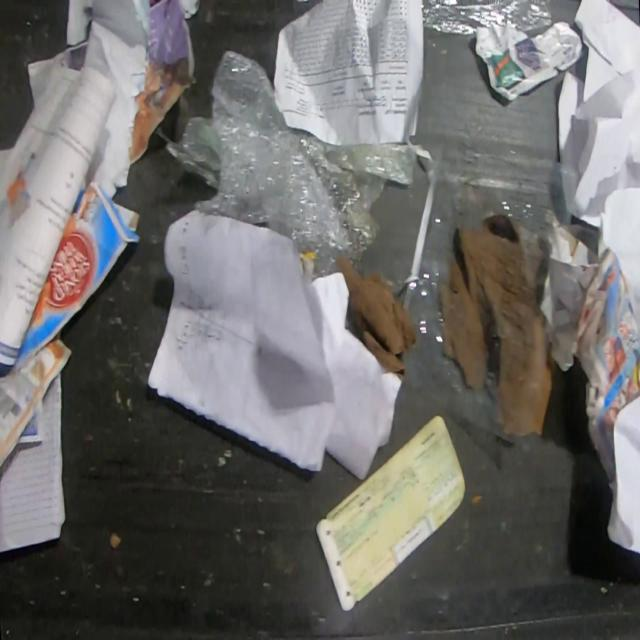cardboard: (313, 414, 466, 613), (3, 171, 142, 378)
soft_plastic: (152, 47, 418, 286), (384, 133, 582, 445), (420, 0, 553, 37)
